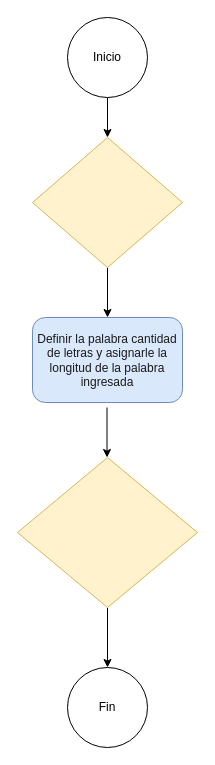
The diagram is 215 pixels wide and 765 high, and some of its shapes have lost their labels. Each missing label, with the centre of its shape:
Mostrar el mensaje: "La palabra ingresada tiene ", cantidad_letras, "letras".: point (107, 532)
Mostrar mensaje: "Por favor ingrese la palabra: ": point (107, 202)
